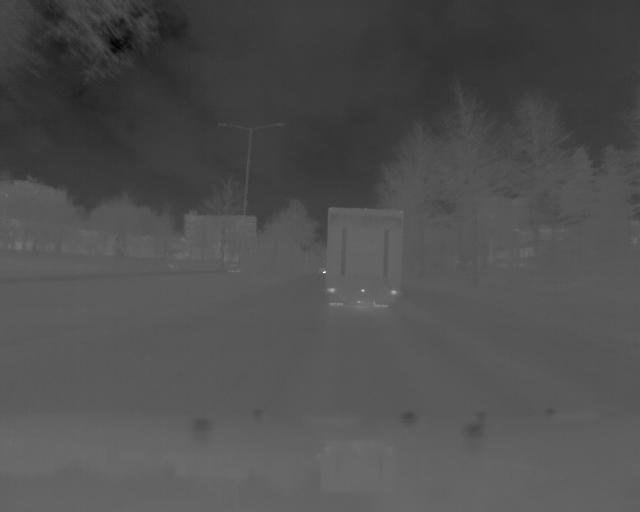car: (321, 203, 406, 320)
